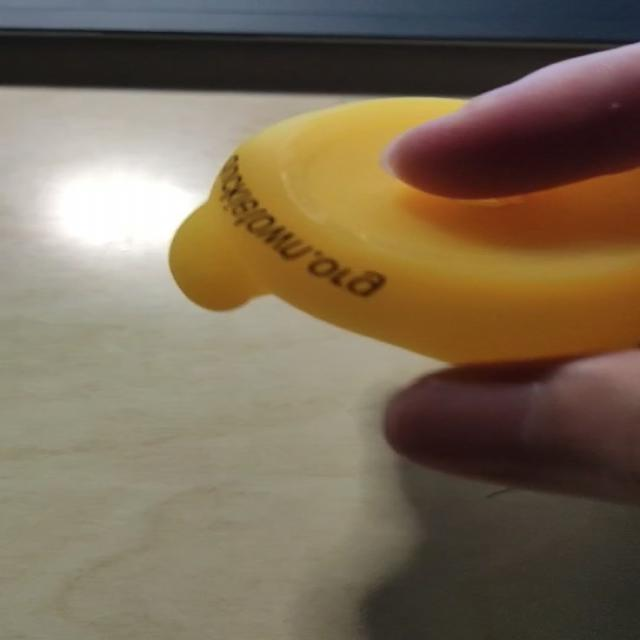rubber-duck: (168, 97, 638, 360)
